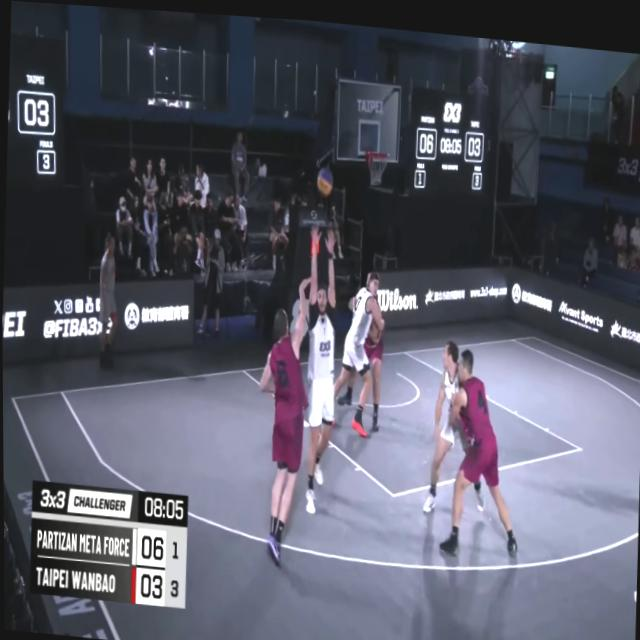ball: (313, 158, 335, 194)
hoop: (363, 140, 389, 184)
player: (251, 261, 317, 568), (438, 340, 522, 561), (293, 210, 338, 515), (422, 317, 489, 505), (322, 257, 389, 436), (345, 264, 396, 427)
